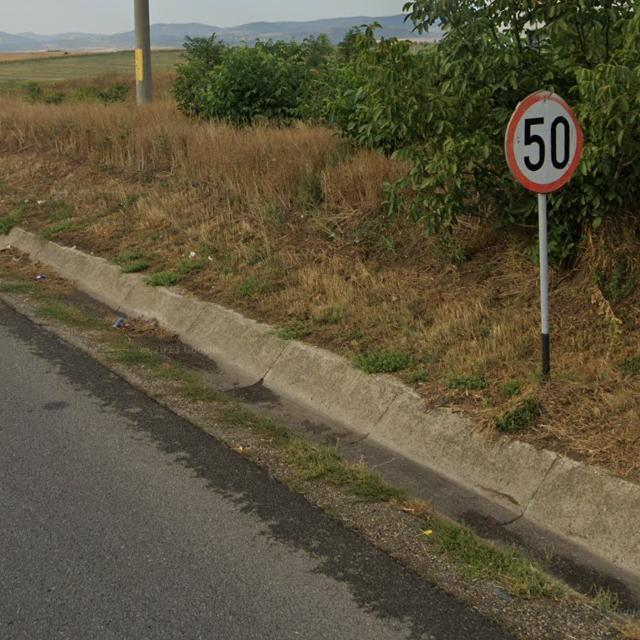forb_speed_over_50: (507, 86, 585, 192)
